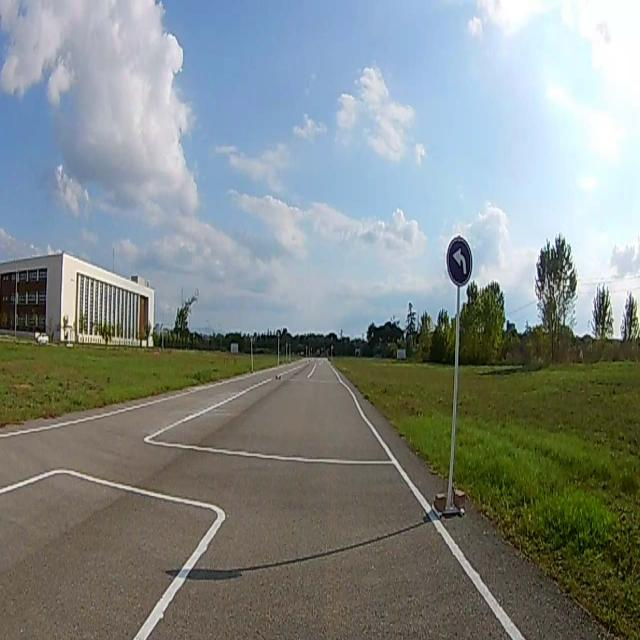sol: (447, 238, 472, 285)
